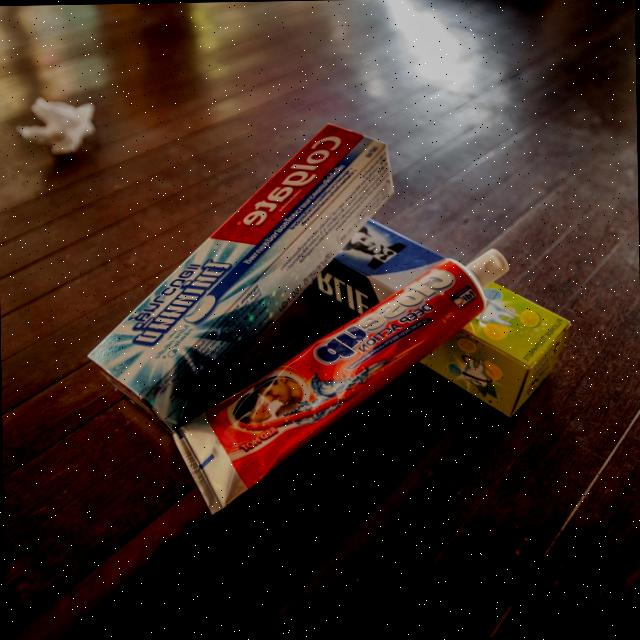Toothpaste: (82, 116, 572, 522)
